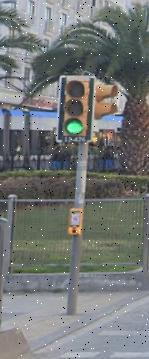greenlight: (61, 78, 87, 135)
